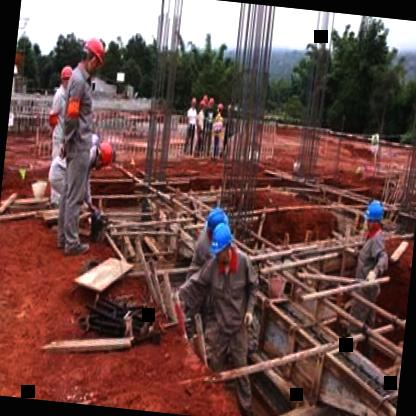helmet: (78, 35, 107, 77), (209, 223, 233, 260), (363, 196, 385, 235), (204, 206, 229, 240), (93, 139, 117, 167), (58, 61, 74, 88), (214, 100, 224, 114), (206, 94, 216, 108), (188, 96, 197, 108), (198, 98, 206, 110)
